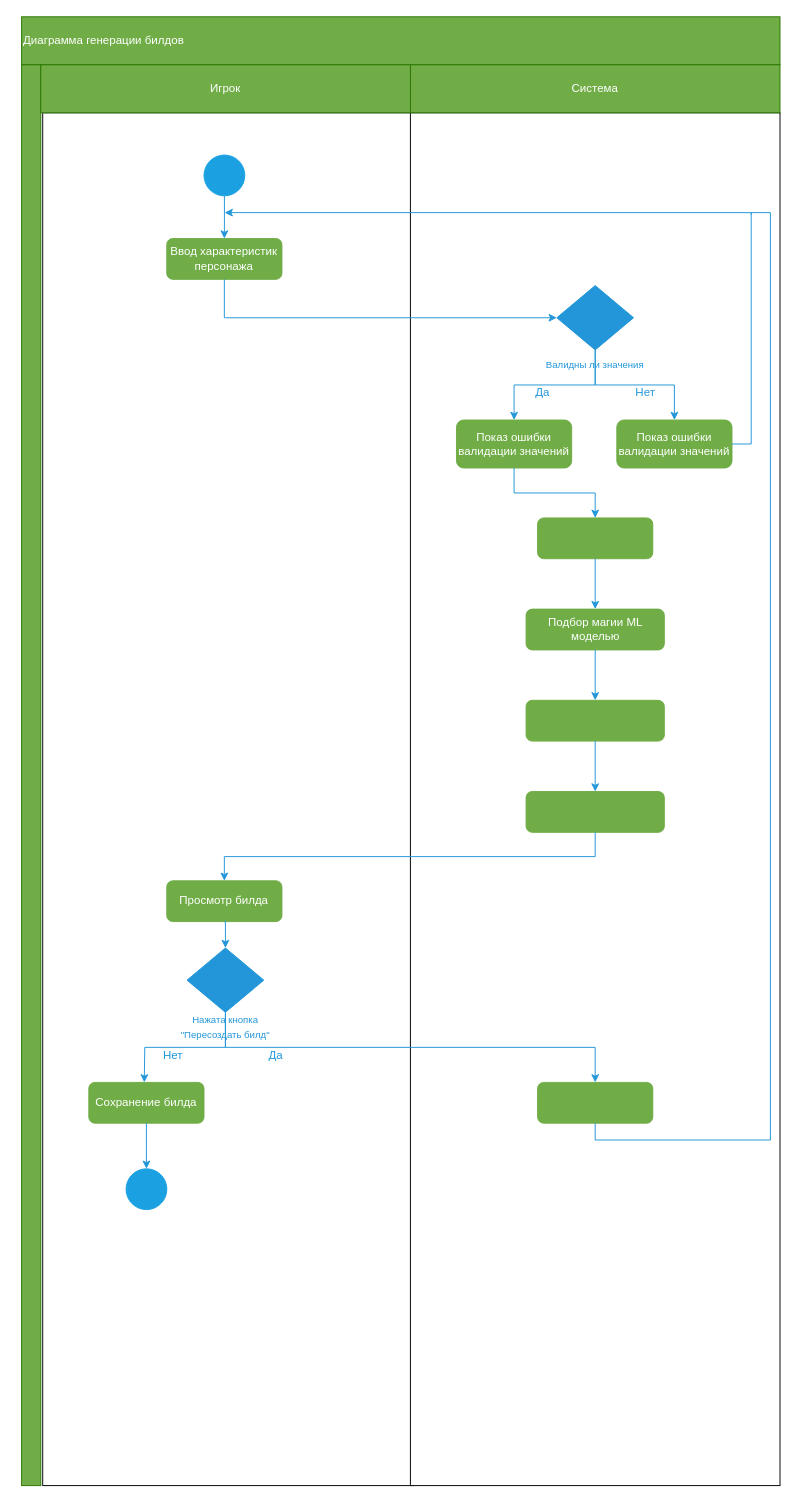
Image size: 797x1502. Some labels were removed from this diagram. Each missing label, with the centre of its shape:
"Отображение билда пользователю" belongs at (x=594, y=811).
"Очистка значений" belongs at (x=595, y=1102).
"Подбор оружия ML моделью" belongs at (x=595, y=538).
"Формирование итоговой конфигурации билда" belongs at (x=594, y=720).
"Этап" belongs at (x=31, y=775).
